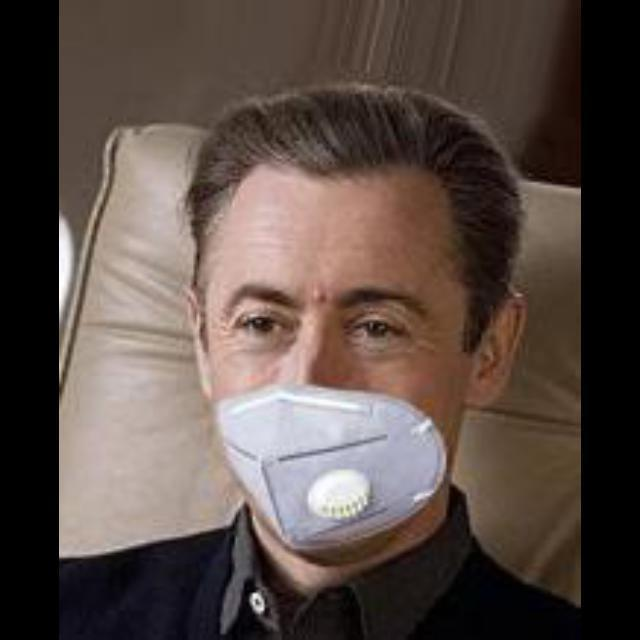1_mascarilla: (215, 380, 452, 557)
